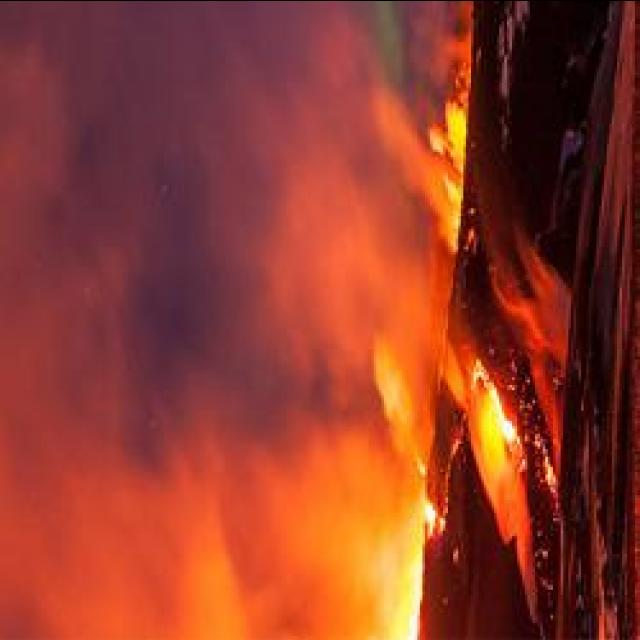fire: (430, 96, 468, 166), (484, 392, 522, 446)
smoke: (140, 423, 346, 640), (243, 96, 369, 388), (94, 0, 271, 156), (5, 499, 184, 640), (62, 244, 160, 442), (0, 31, 72, 261), (304, 461, 382, 640), (363, 326, 418, 436), (364, 74, 415, 176), (403, 4, 445, 86), (406, 156, 434, 206)
